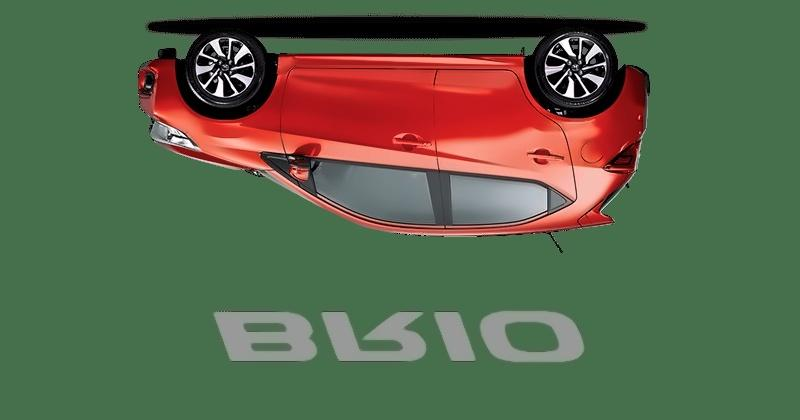Driver-s door - -F-R-: (279, 52, 444, 254)
Front bumper: (129, 53, 206, 155)
Headlight - -R-: (147, 117, 202, 156)
Passenger-s door - -R-R-: (421, 43, 576, 241)
Rear bumper: (576, 51, 660, 148)
Rear light - -R-: (600, 138, 646, 181)
Side bumper - -R-: (272, 44, 545, 97), (287, 161, 312, 183)
